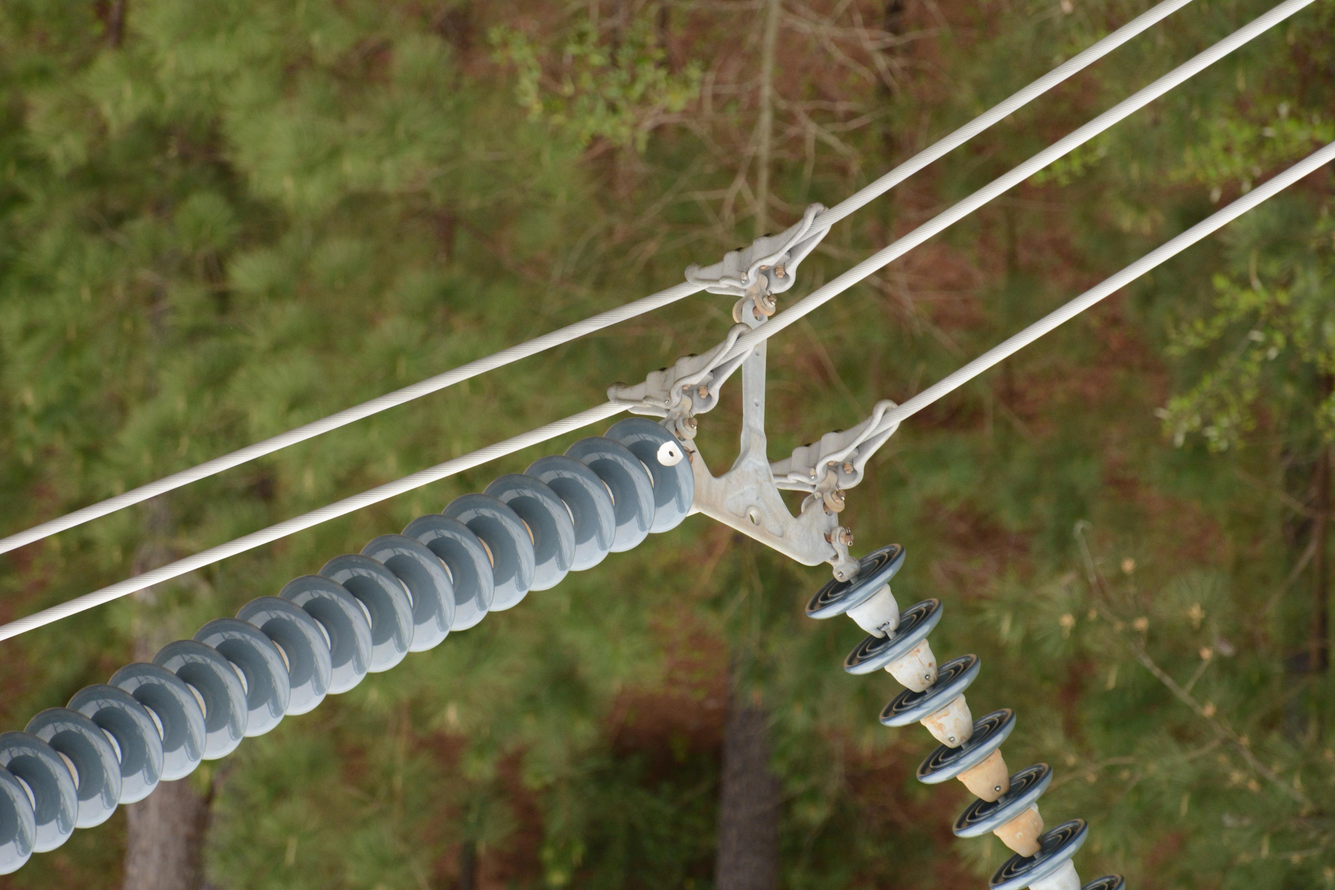damaged: (656, 436, 684, 472)
insulator: (0, 416, 699, 877), (809, 542, 1128, 890)
